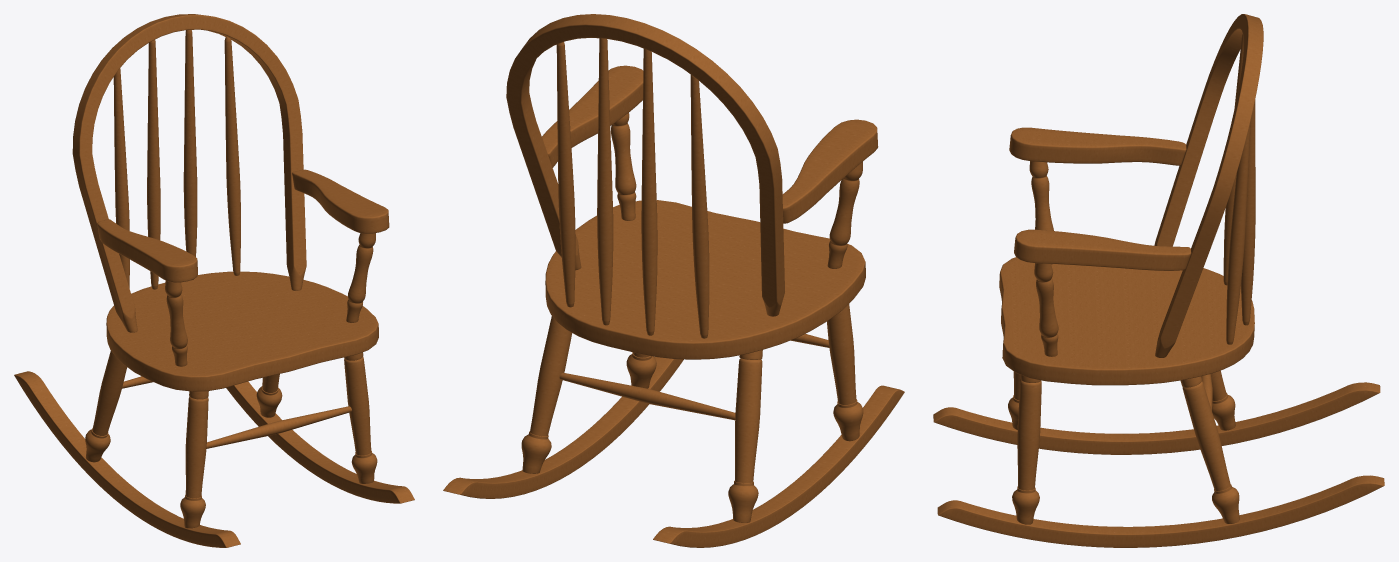
The model's file is kid_rocking_chair - Copy.glb.
3 views of the same model, side by side, from view 1: azimuth 30°, elevation 25°; view 2: azimuth 150°, elevation 25°; view 3: azimuth 270°, elevation 25° (orthographic). The views are drawn at different scales.
Visible parts, largest first — view 1: Kid_Rocking_Chair; view 2: Kid_Rocking_Chair; view 3: Kid_Rocking_Chair.
Part boxes in pixels (bbox=[...]): Kid_Rocking_Chair: bbox=[14, 14, 414, 547]; Kid_Rocking_Chair: bbox=[443, 14, 904, 547]; Kid_Rocking_Chair: bbox=[933, 14, 1384, 547].
Bounding box in the file's own units: 0.123 × 0.2249 × 0.196.
Materials: 1 (1 with a texture image).
